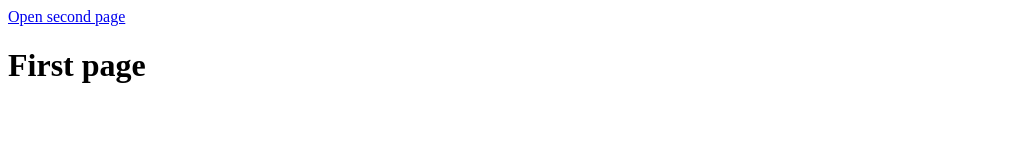
SPA route focus › moves focus to the main landmark after pathname changes
Click the link "Open second page".
click(67, 16)  # box [8,8,125,25]
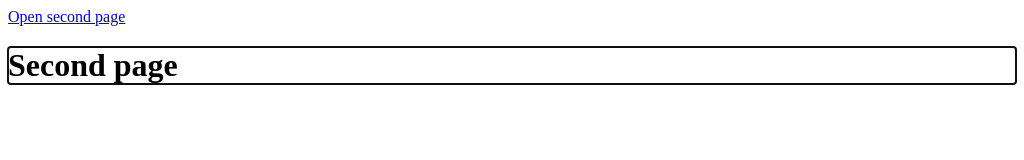
expect the heading "Second page" is shown: met, box [8,47,178,83]
